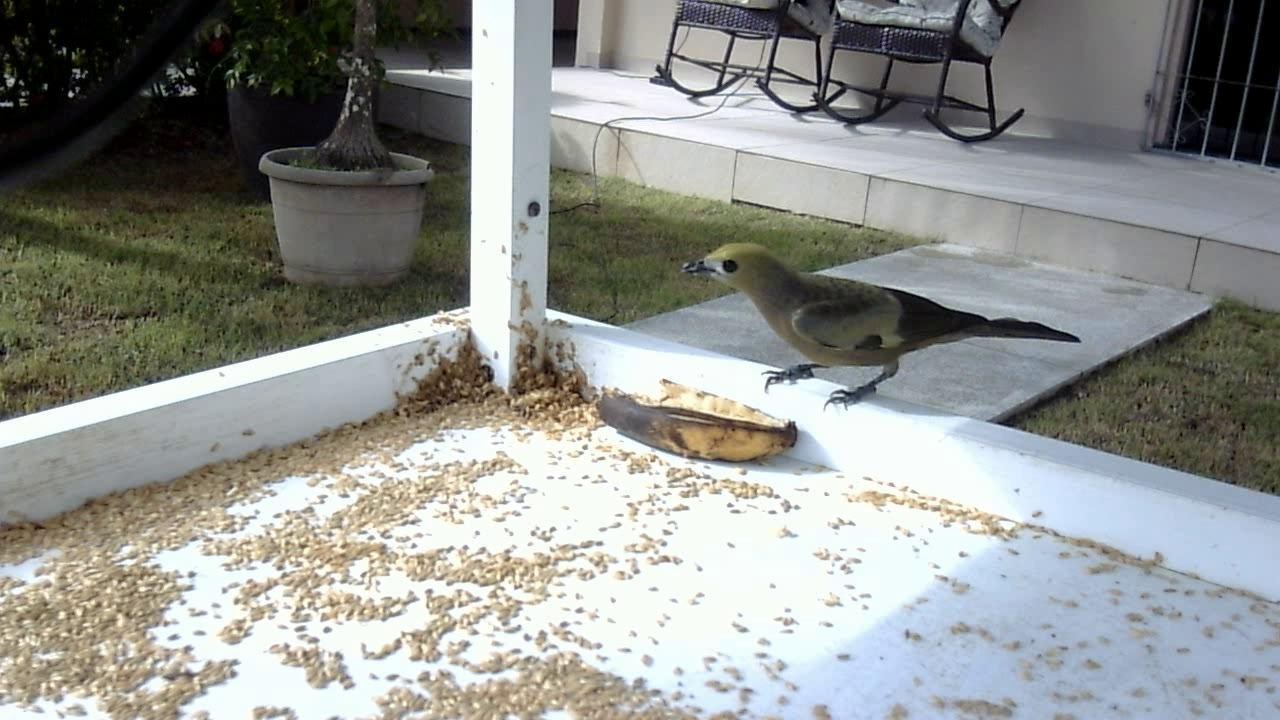sanhaco_do_coqueiro: (674, 234, 1079, 425)
